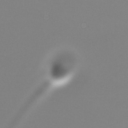normal: (3, 79, 53, 128)
